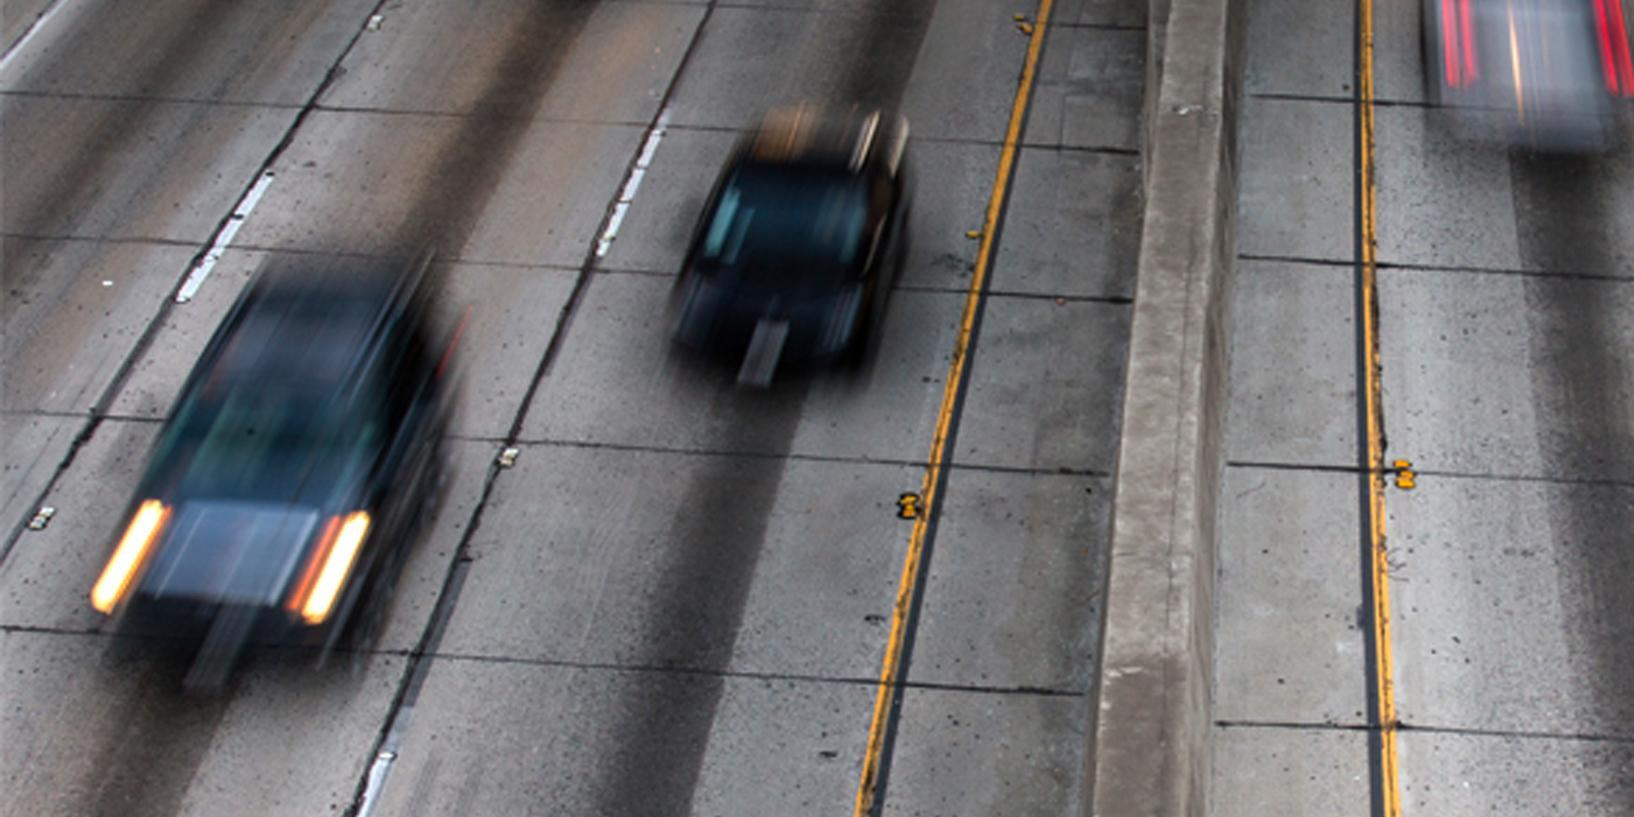shadow: (85, 227, 473, 689), (658, 82, 933, 410), (1405, 1, 1634, 166)
